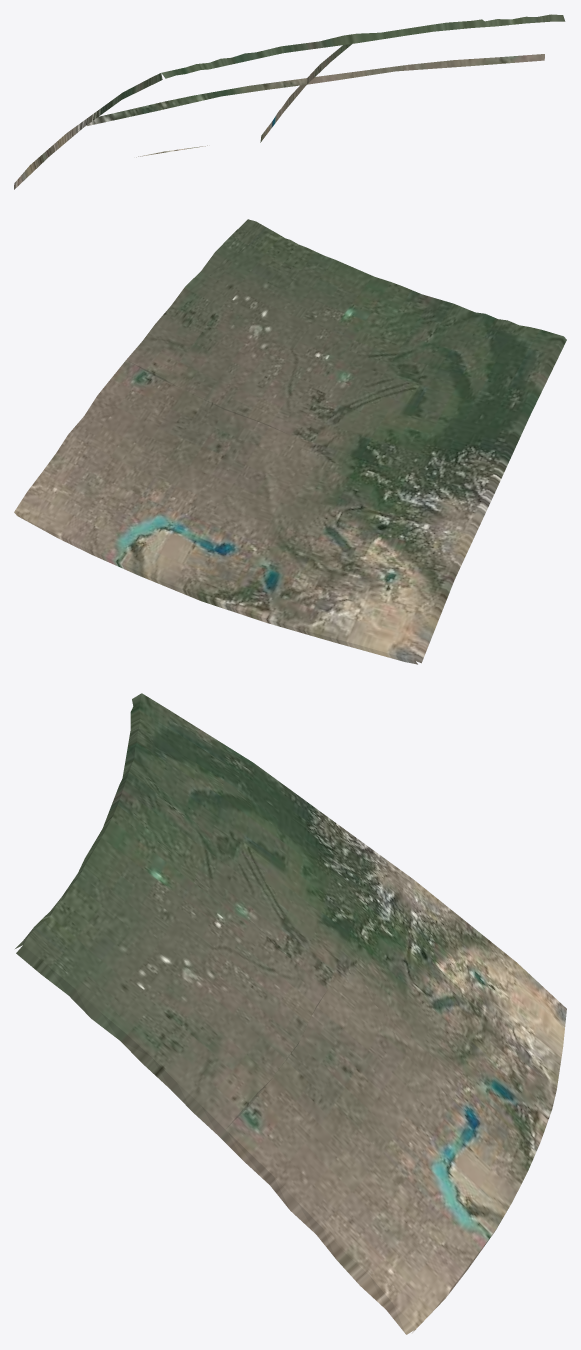
3 renders of one model, top to bottom at view 1: azimuth 30°, elevation 25°; view 2: azimuth 150°, elevation 25°; view 3: azimuth 270°, elevation 25°, orthographic. The views are drawn at different scales.
Size of the model in its own units: 1750671 by 827509 by 1264289.
1 material, 1 textured.
